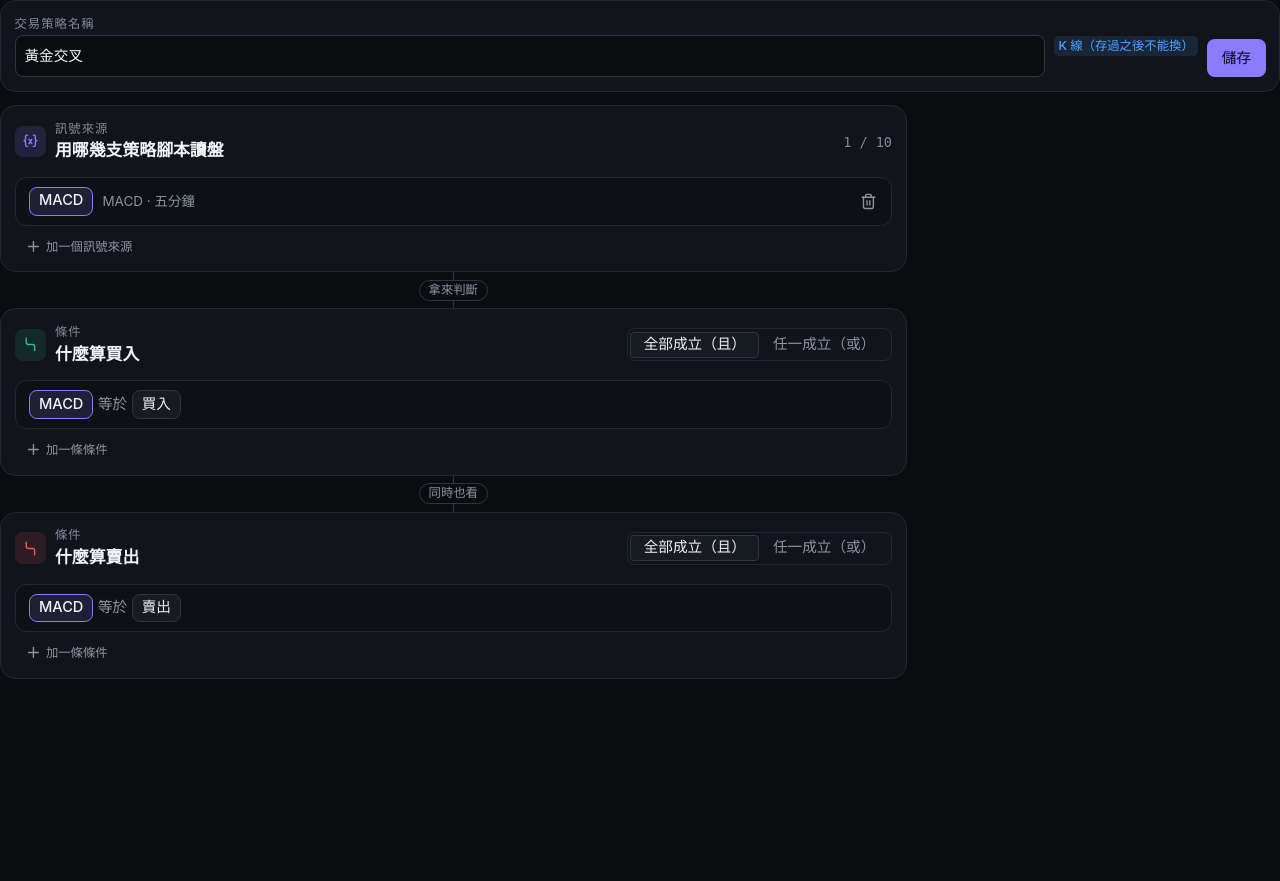
Scenario: TradingStrategyWorkbench：加一個訊號來源 › 加一個就多一列
Click the button with test id "strategy-script-add" at [78, 246], box [14,235,142,258]
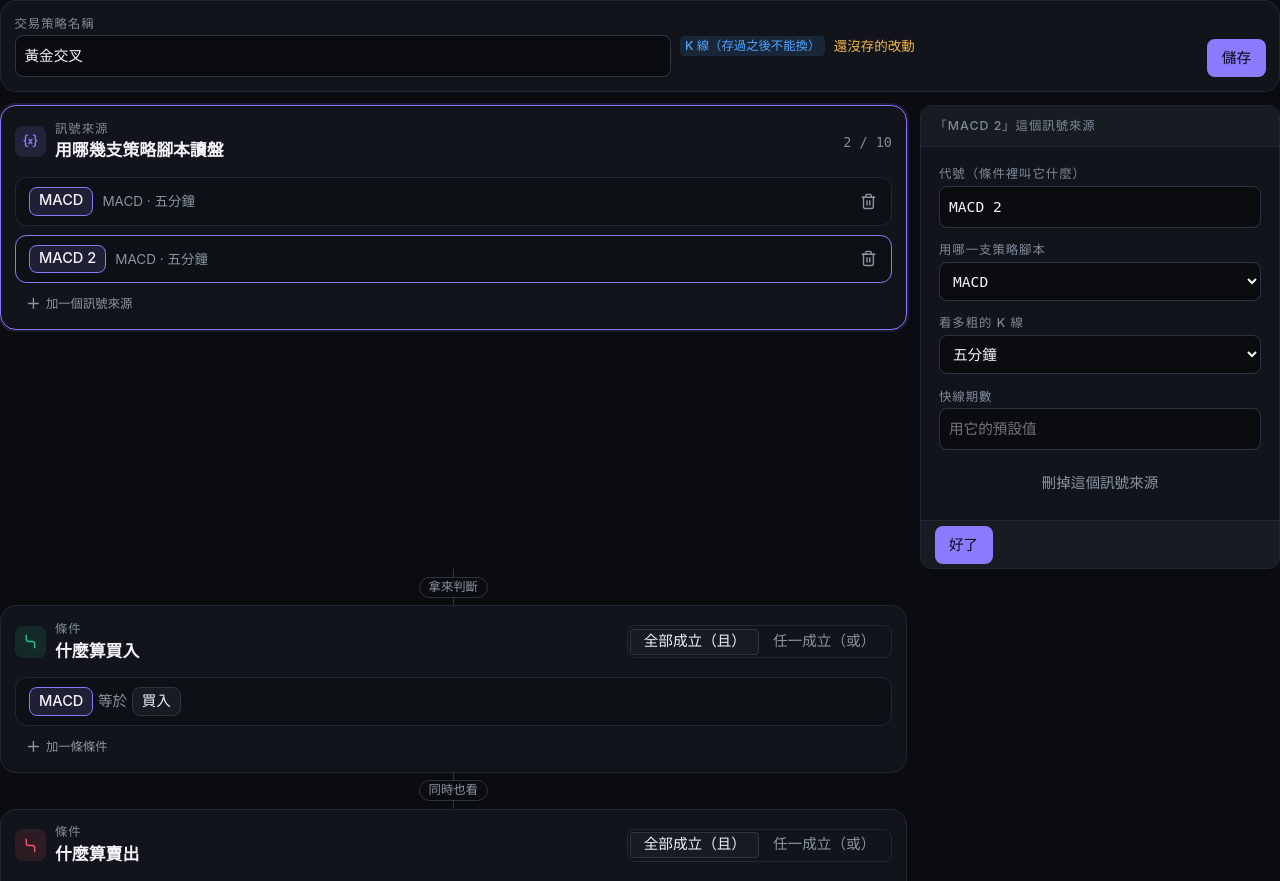
Expected: the number of list items with test id "strategy-script-row" is 2, [14,177,892,226]; [14,235,892,283]
